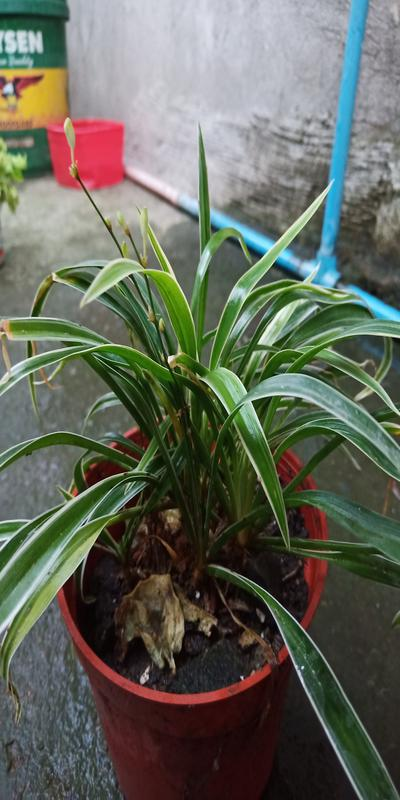Yellow and green leaf: (29, 229, 393, 603)
